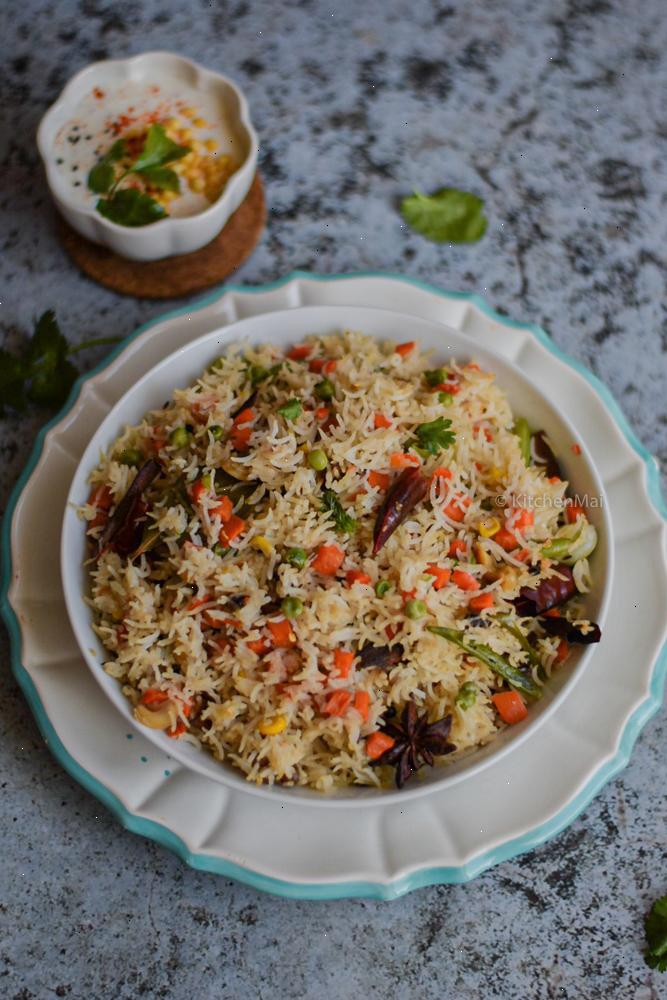veg-pulao: (121, 373, 515, 750)
yogurt: (66, 78, 242, 276)
